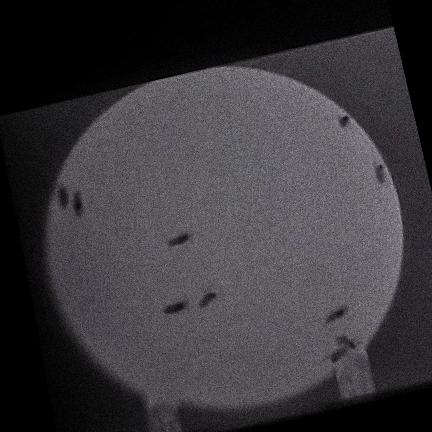fly: (324, 304, 347, 323), (167, 229, 192, 246), (198, 287, 216, 308), (325, 345, 347, 362), (162, 300, 187, 314), (71, 190, 83, 216), (335, 334, 356, 348), (56, 185, 68, 208), (373, 160, 385, 181), (337, 114, 350, 126)
